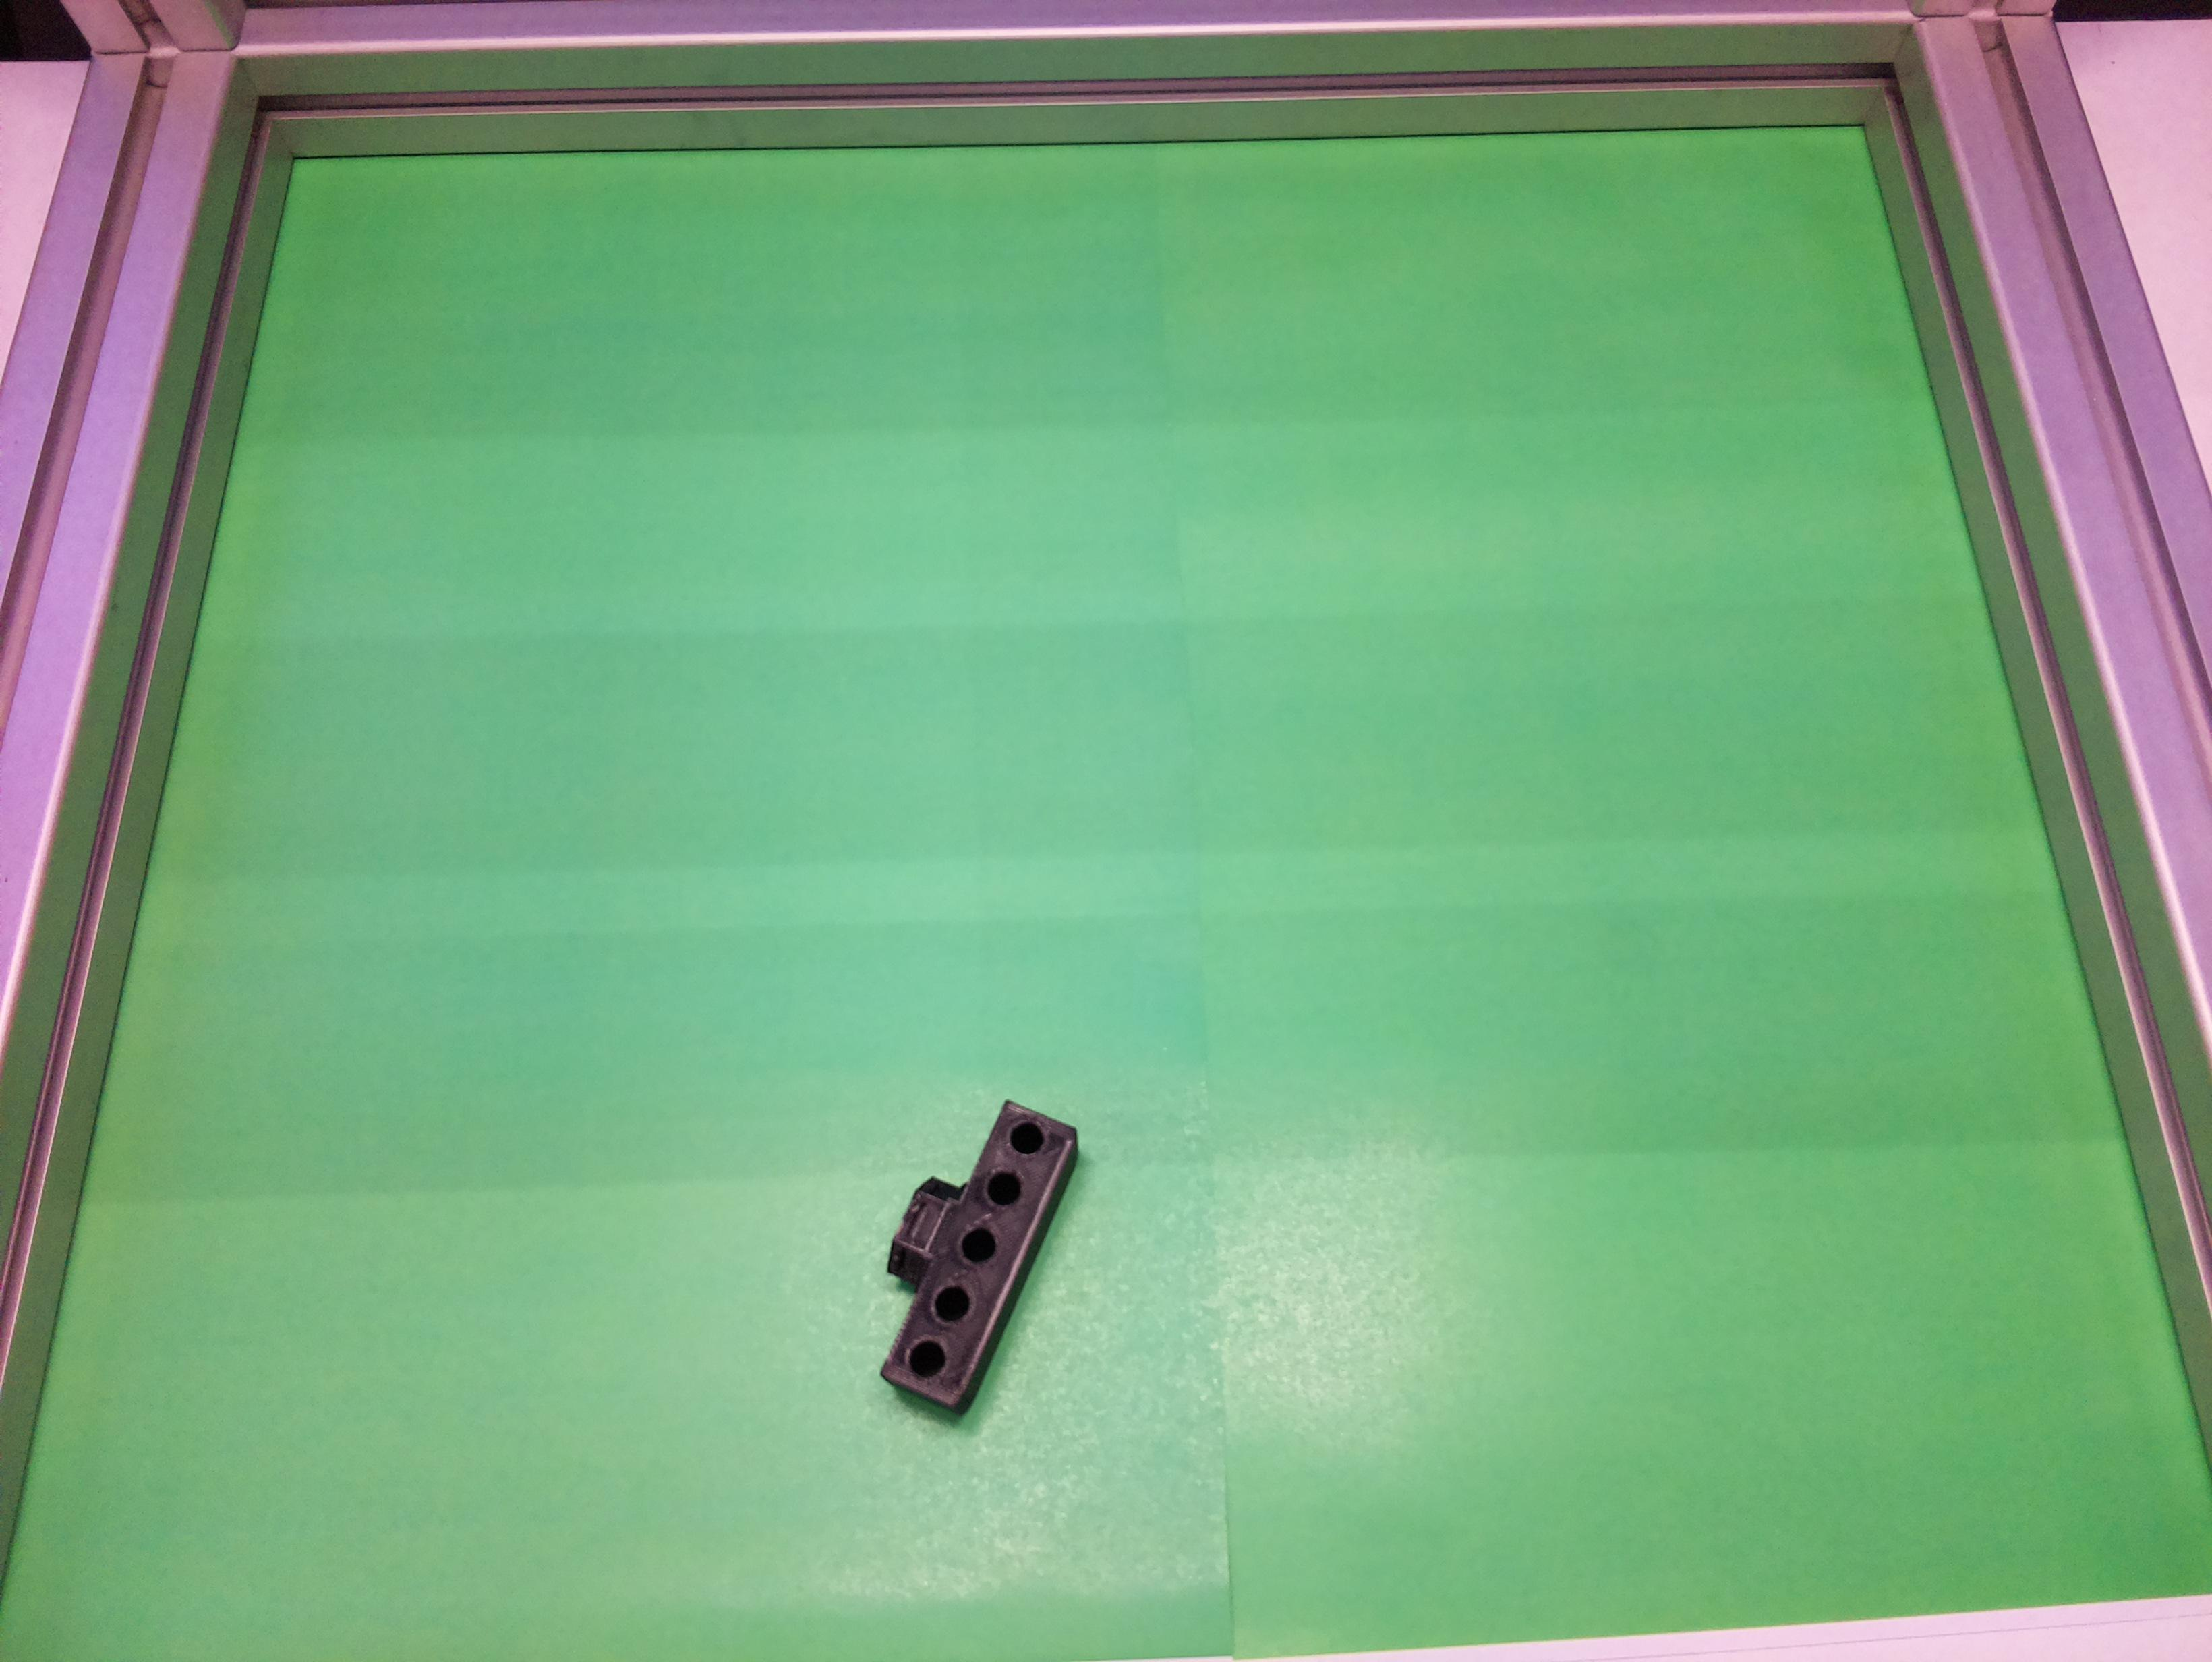bit_holder: (838, 1079, 1089, 1419)
